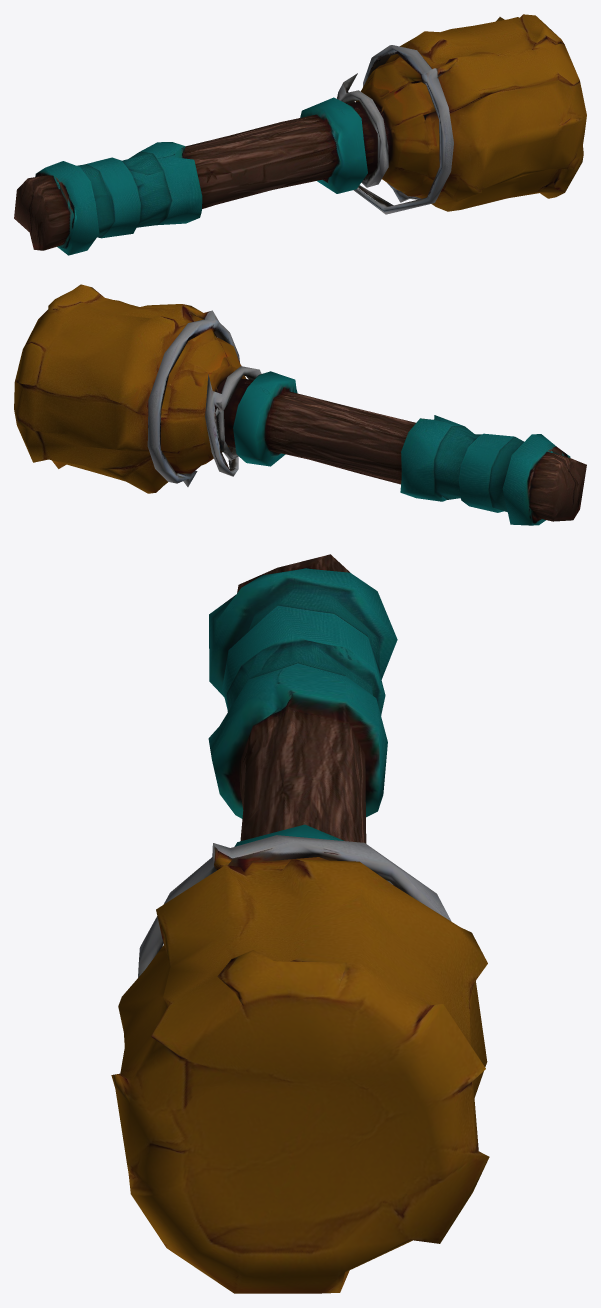
The model's file is weapon_torch_1500.glb.
3 views of the same model, one above another, from view 1: azimuth 30°, elevation 25°; view 2: azimuth 150°, elevation 25°; view 3: azimuth 270°, elevation 25° (orthographic). The views are drawn at different scales.
Parts seen in each view (by area): view 1: tripo_node_b6abcd6b-84c0-445a-8879-c399c751828b; view 2: tripo_node_b6abcd6b-84c0-445a-8879-c399c751828b; view 3: tripo_node_b6abcd6b-84c0-445a-8879-c399c751828b.
Part boxes in pixels (bbox=[...]): tripo_node_b6abcd6b-84c0-445a-8879-c399c751828b: bbox=[14, 14, 586, 255]; tripo_node_b6abcd6b-84c0-445a-8879-c399c751828b: bbox=[14, 284, 586, 525]; tripo_node_b6abcd6b-84c0-445a-8879-c399c751828b: bbox=[111, 554, 489, 1293].
Bounding box in the file's own units: 0.9794 × 0.305 × 0.307.
1 material, 1 textured.
